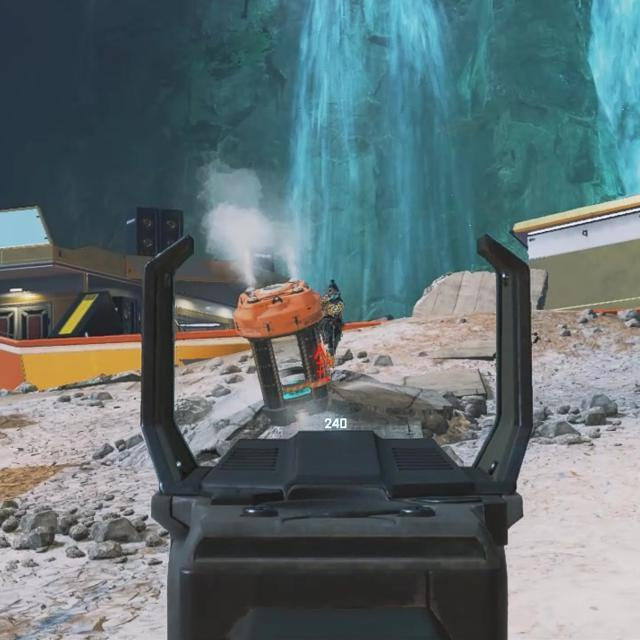avatar: (319, 277, 346, 354)
